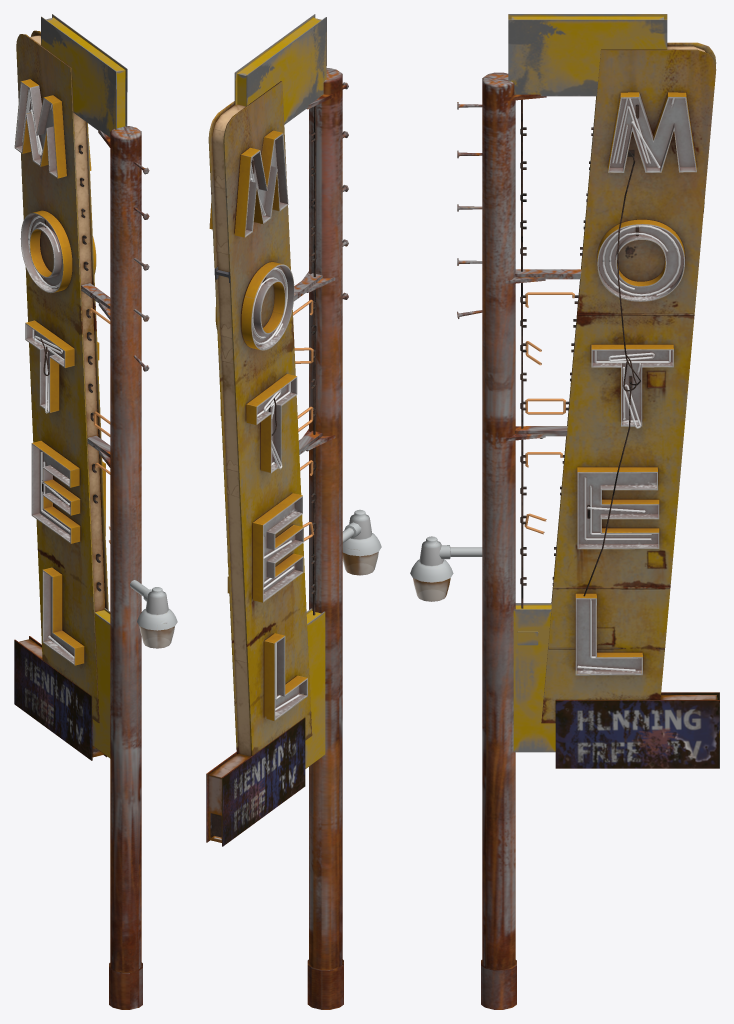
The model's file is desert_mojave_motel_sign.glb.
3 views of the same model, side by side, from view 1: azimuth 30°, elevation 25°; view 2: azimuth 150°, elevation 25°; view 3: azimuth 270°, elevation 25° (orthographic). The views are drawn at different scales.
Parts seen in each view (by area): view 1: pCube33, pCube34; view 2: pCube33, pCube34; view 3: pCube33.
Part boxes in pixels (x1,y1,x2,y2): pCube33: (14,14,177,1009); pCube34: (14,79,84,665); pCube33: (206,14,381,1009); pCube34: (234,130,307,720); pCube33: (410,14,719,1009).
Bounding box in the file's own units: 1.45 × 33.59 × 9.57.
Materials: 3 (3 with a texture image).
